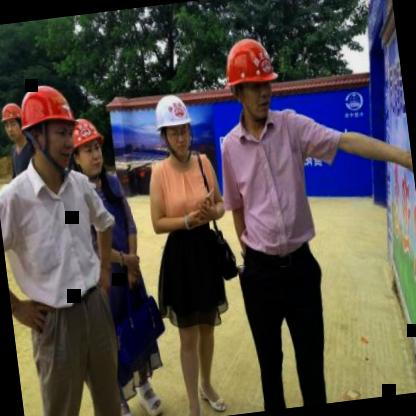helmet: (14, 78, 78, 178), (218, 29, 282, 124), (148, 86, 202, 164), (66, 115, 112, 182), (0, 97, 27, 145)
